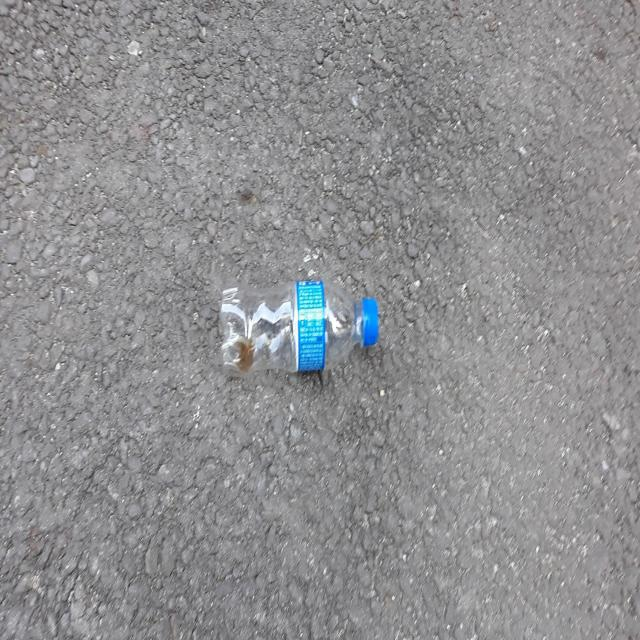plastic: (219, 276, 379, 376)
